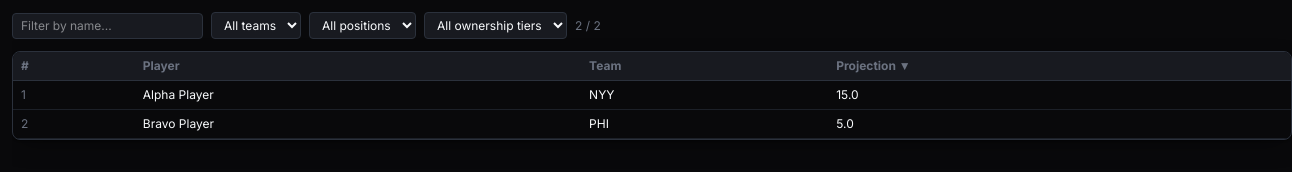
Scenario: PlayerTable › filters rows by name search
Type "alpha" into the field with placeholder "Filter by name..." at x=108, y=26, box 12,12 -> 203,38
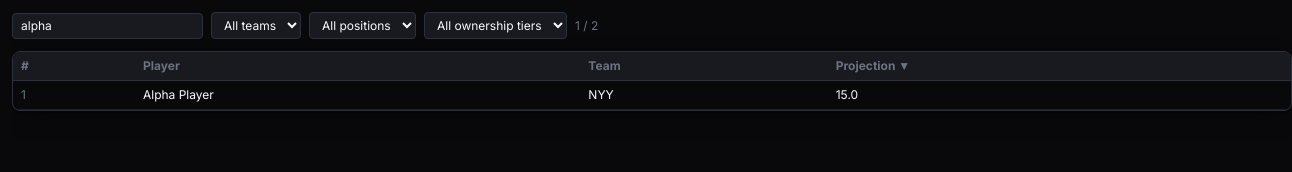
Check: the text "Alpha Player" is shown, box 135,80 -> 580,110
Check: the text "Bravo Player" is gone
